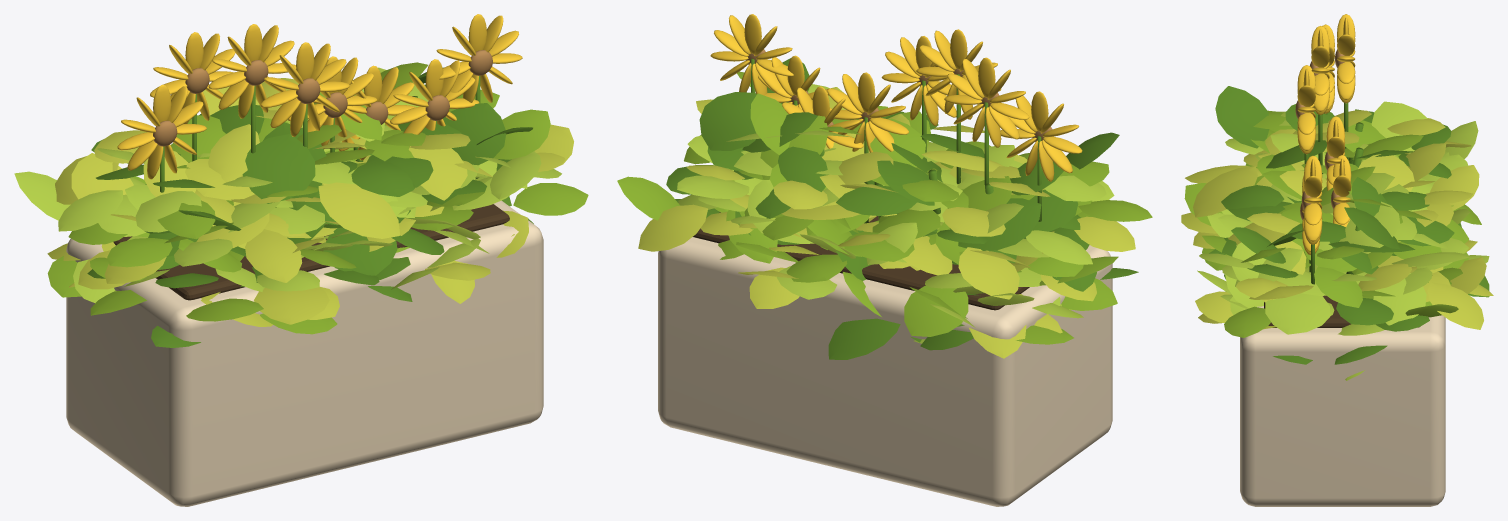
The model's file is FullPlanter.fbx.
The picture shows the model from 3 angles, left to right: view 1: azimuth 30°, elevation 25°; view 2: azimuth 150°, elevation 25°; view 3: azimuth 270°, elevation 25°; orthographic projection. The views are drawn at different scales.
Visible parts, largest first — view 1: FullPlanter.001; view 2: FullPlanter.001; view 3: FullPlanter.001.
Part boxes in pixels (x1,y1,x2,y2): FullPlanter.001: (14,14,588,506); FullPlanter.001: (617,14,1152,506); FullPlanter.001: (1181,14,1493,506).
Bounding box in the file's own units: 1.38 × 1.21 × 0.9123.
